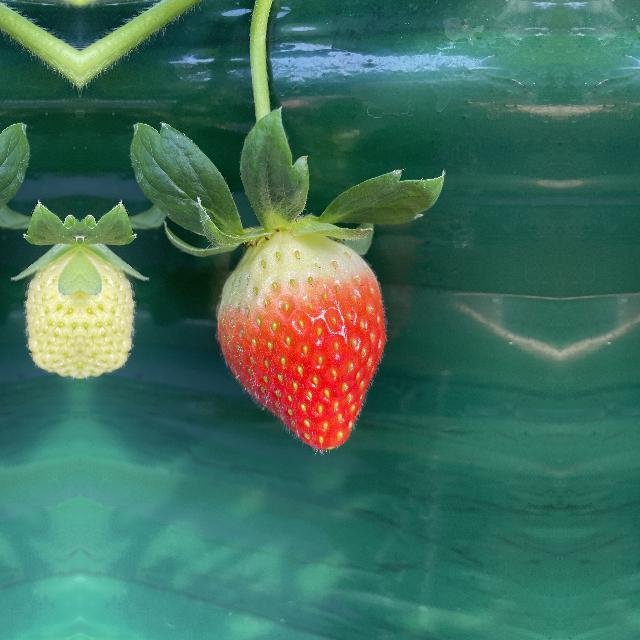Health_100: (208, 222, 398, 456)
Health_25: (80, 220, 144, 388), (16, 220, 80, 388)
